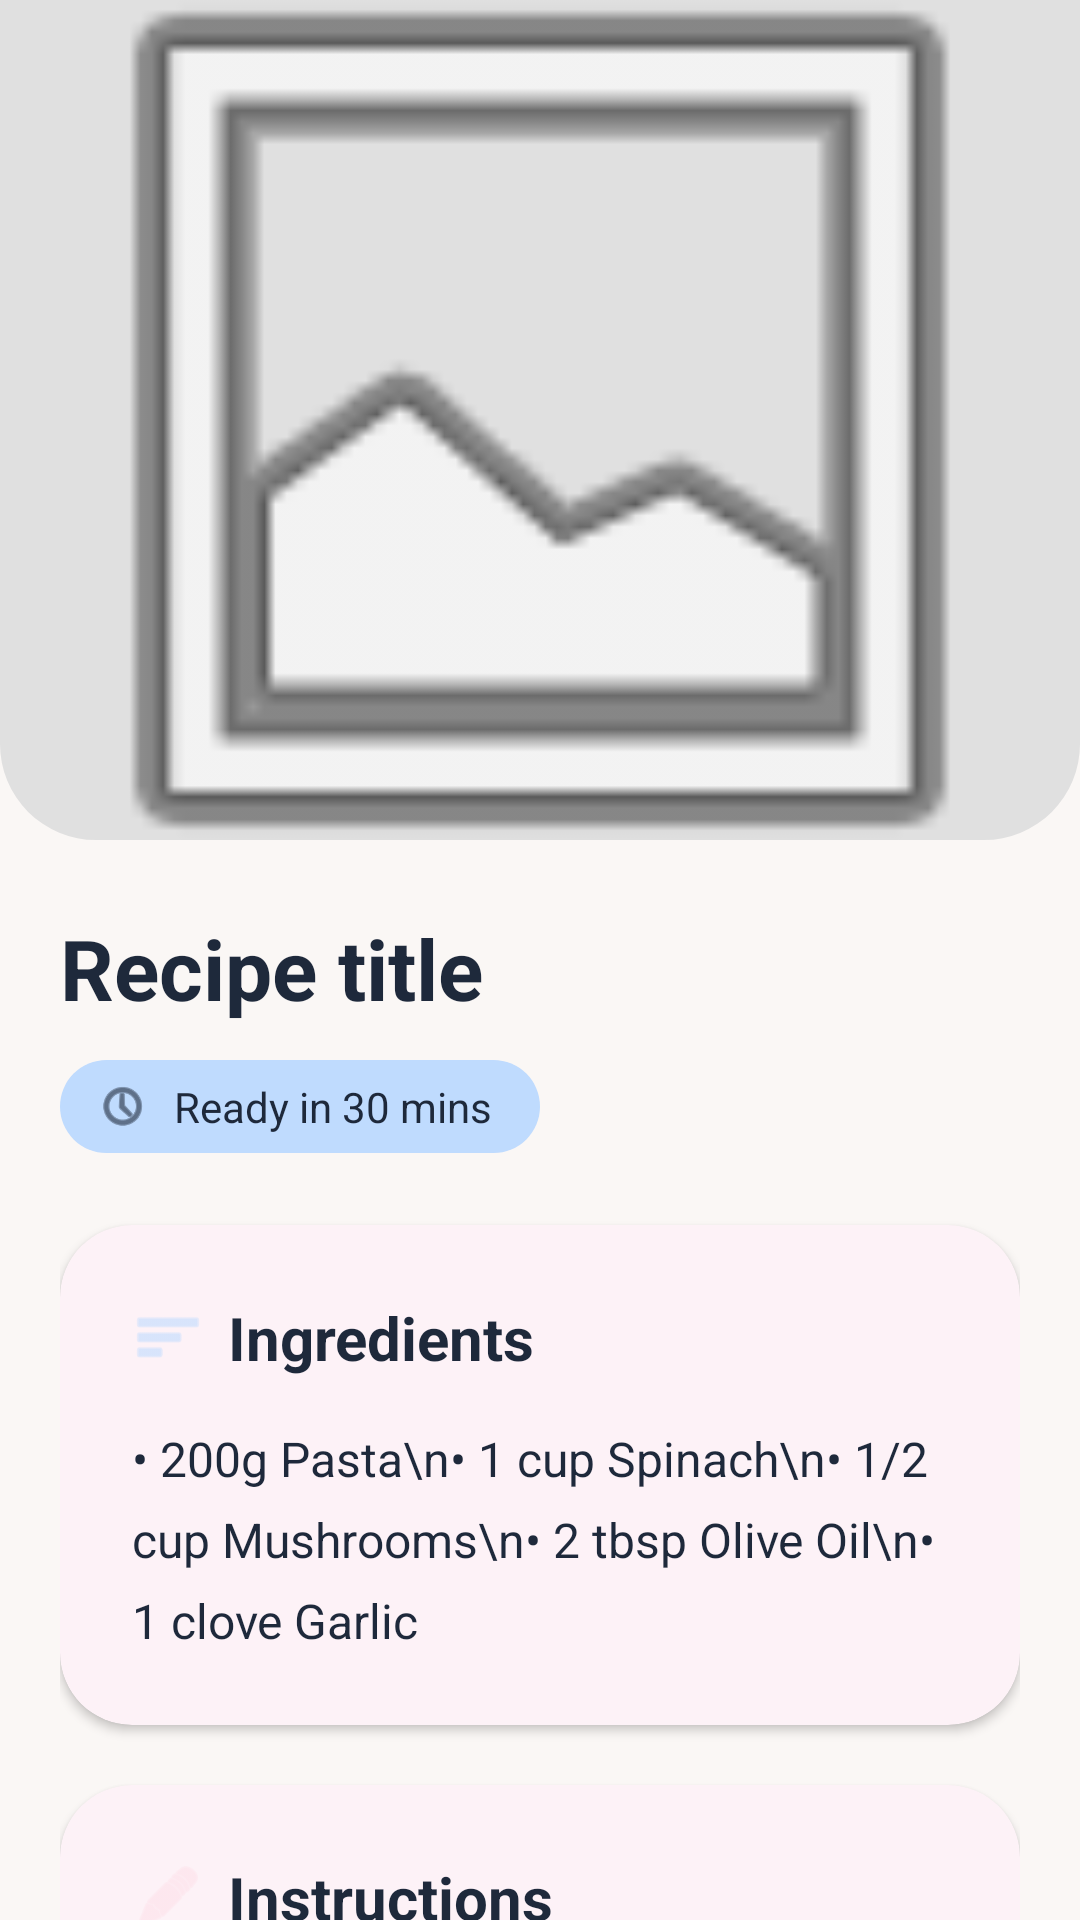

Screen size 1080w x 1920h. Icon name, then its box in pixels as (x1, y1, x2, y2):
recent history: (103, 1087, 142, 1126)
sort by size: (138, 1318, 198, 1357)
